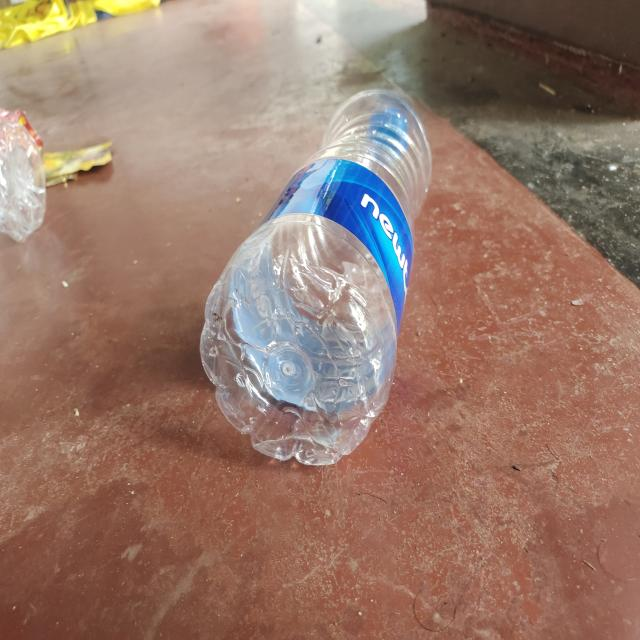plastic: (199, 85, 432, 467)
